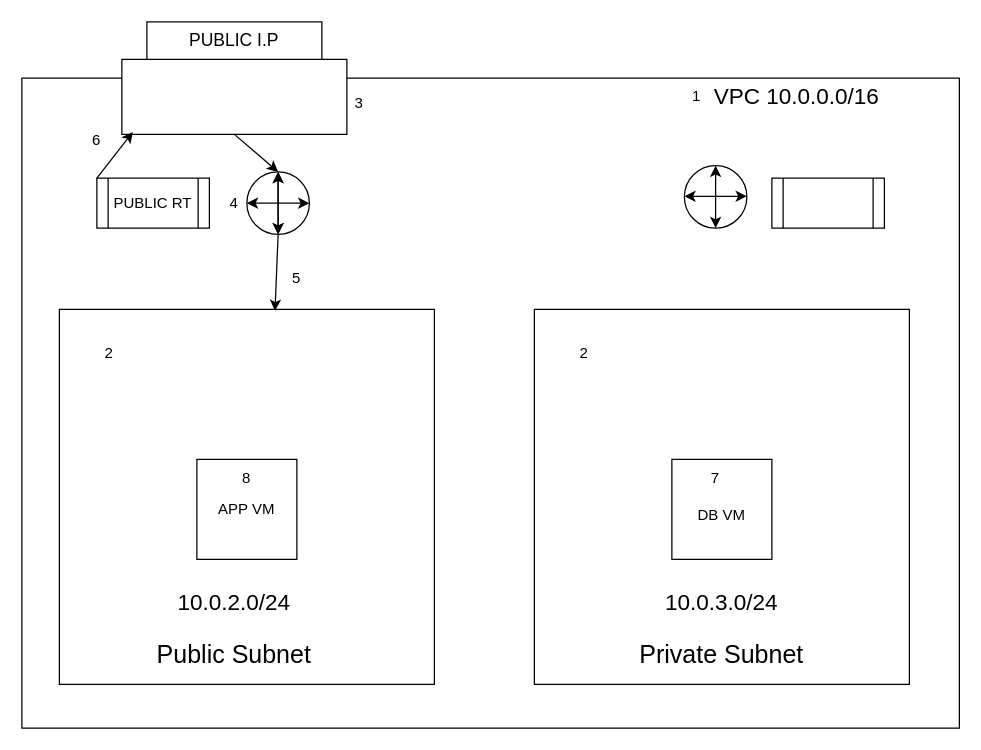
Image size: 981x750. Some labels were removed from this diagram. The shapes that lost their labels are listed below. From the top down, each one's centre as x and y in pixels, then its label:
the point at 234,96: Internet Gateway
the point at 827,202: DEFAULT RT
